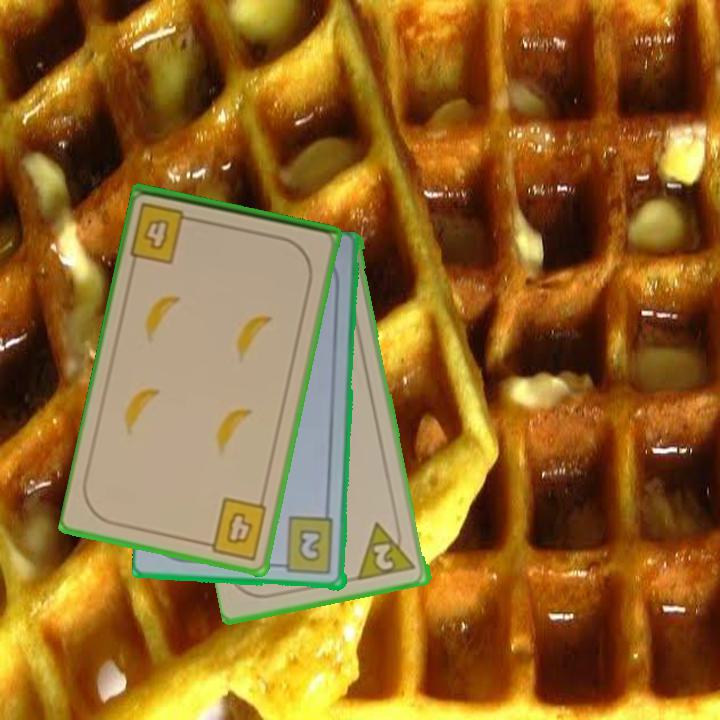2b: (273, 515, 337, 577)
2p: (356, 516, 419, 584)
4b: (127, 198, 201, 267), (199, 494, 270, 563)
